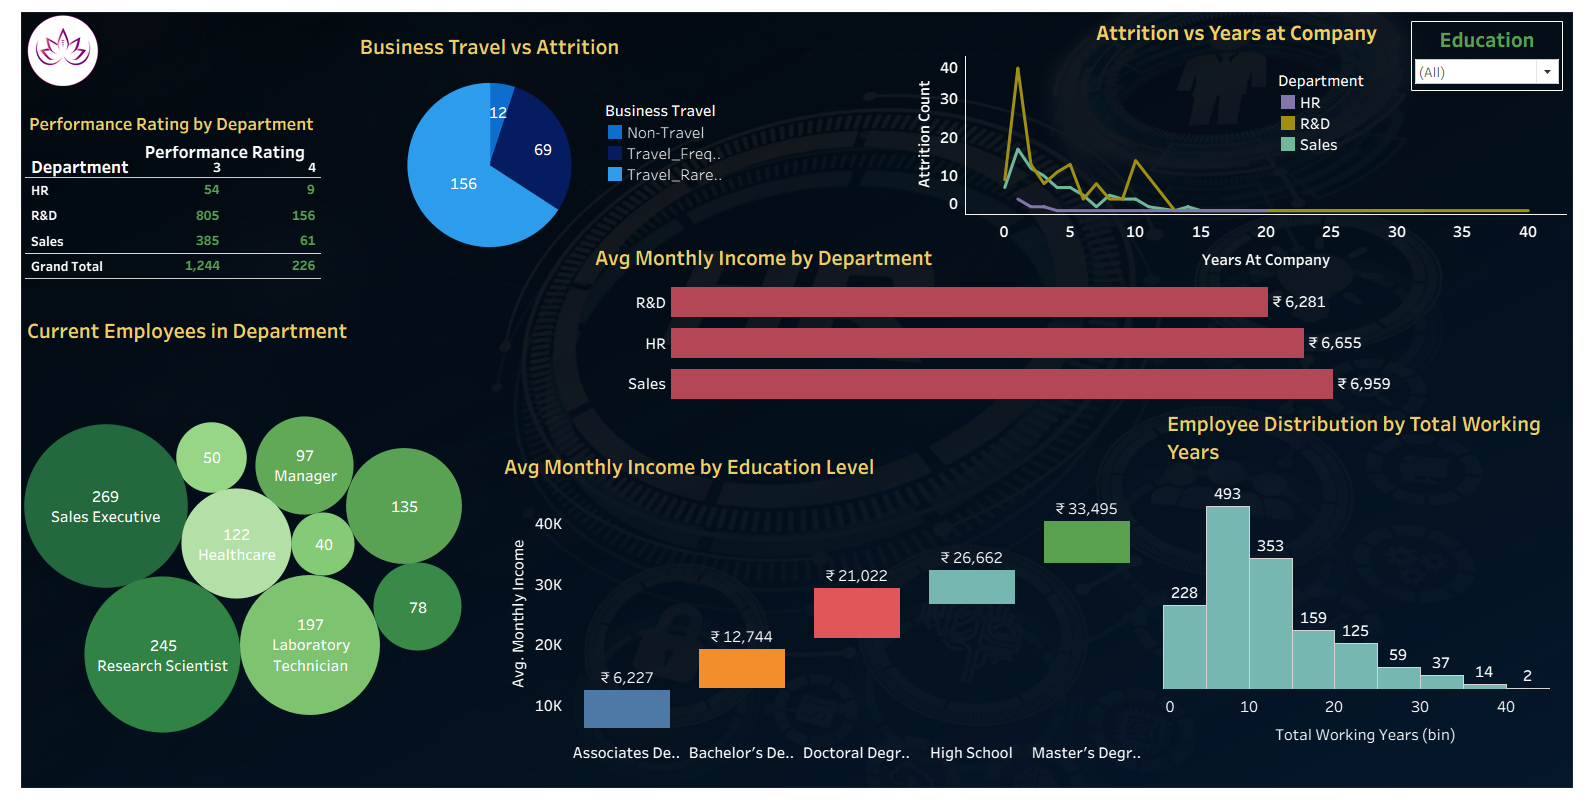

The page's visual inventory and layout, read from the dashboard file:
{"tool":"tableau","page":{"name":"Dashboard 2","canvas":[1000,1000],"units":"permille","ordinal":1},"visuals":[{"type":"image","param":"Image/bg1.png","box":[5.2,10.2,989.6,979.6]},{"type":"image","param":"Image/logo.png","box":[10.8,17.5,50,90]},{"type":"worksheet","title":"Attrition vs Years at Company","mark":"Line","rows":["Calculation_1563312085716348928"],"cols":["Years At Company"],"box":[569.3,17.8,418.4,328.7]},{"type":"filter","title":"Business Travel vs Attrition","param":"[federated.1mih5650cwixov158ot0y03tkkte].[none:Education:nk]","box":[888.6,26.2,96.2,87.5]},{"type":"worksheet","title":"Business Travel vs Attrition","mark":"Pie","box":[198.8,34.4,213.1,289.2]},{"type":"legend","title":"Attrition vs Years at Company","param":"[federated.1mih5650cwixov158ot0y03tkkte].[none:Department:nk]","box":[804.4,87.9,88.7,114.7]},{"type":"legend","title":"Business Travel vs Attrition","param":"[federated.1mih5650cwixov158ot0y03tkkte].[none:Business Travel:nk]","box":[378.2,124.8,147,131.2]},{"type":"worksheet","title":"Performance Rating by Department","mark":"Automatic","rows":["Department"],"cols":["Performance Rating"],"box":[11.4,133.8,187.3,215]},{"type":"worksheet","title":"Avg Monthly Income by Department","mark":"Automatic","rows":["Department"],"cols":["Monthly Income"],"box":[369.8,299.4,529.8,206.4]},{"type":"worksheet","title":"Current Employees in Department","mark":"Circle","box":[10.1,390,386.1,602.5]},{"type":"worksheet","title":"Employee Distribution by Total Working Years","mark":"Bar","rows":["Employee Count"],"cols":["Total Working Years (bin)"],"box":[731.6,506.2,256.3,433.8]},{"type":"worksheet","title":"Monthly Income by Education Level","mark":"GanttBar","rows":["Monthly Income"],"cols":["Education"],"box":[331,560.5,388.6,394.9]}]}

Visuals, with their boxes on the dashboard's canvas, which has no fixed pixel size, in thousandths of its width and height (x1, y1, x2, y2). These are canvas units, not pixel positions in the 1586x807 screenshot, which may show the page scaled, cropped or inside an application window:
image: 5/10/995/990
image: 11/18/61/108
"Attrition vs Years at Company" worksheet (Line marks): 569/18/988/346
"Business Travel vs Attrition" filter: 889/26/985/114
"Business Travel vs Attrition" worksheet (Pie marks): 199/34/412/324
"Attrition vs Years at Company" legend: 804/88/893/203
"Business Travel vs Attrition" legend: 378/125/525/256
"Performance Rating by Department" worksheet: 11/134/199/349
"Avg Monthly Income by Department" worksheet: 370/299/900/506
"Current Employees in Department" worksheet (Circle marks): 10/390/396/992
"Employee Distribution by Total Working Years" worksheet (Bar marks): 732/506/988/940
"Monthly Income by Education Level" worksheet (GanttBar marks): 331/560/720/955
